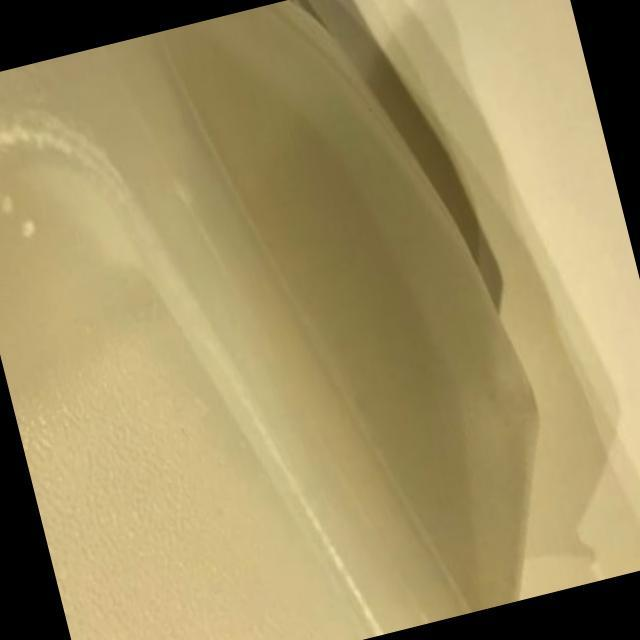HDPE Plastic: (1, 2, 543, 637)
